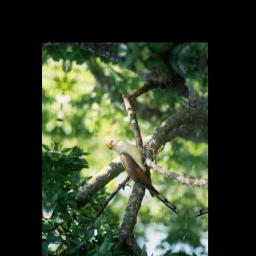Cuckoo: (97, 137, 191, 217)
